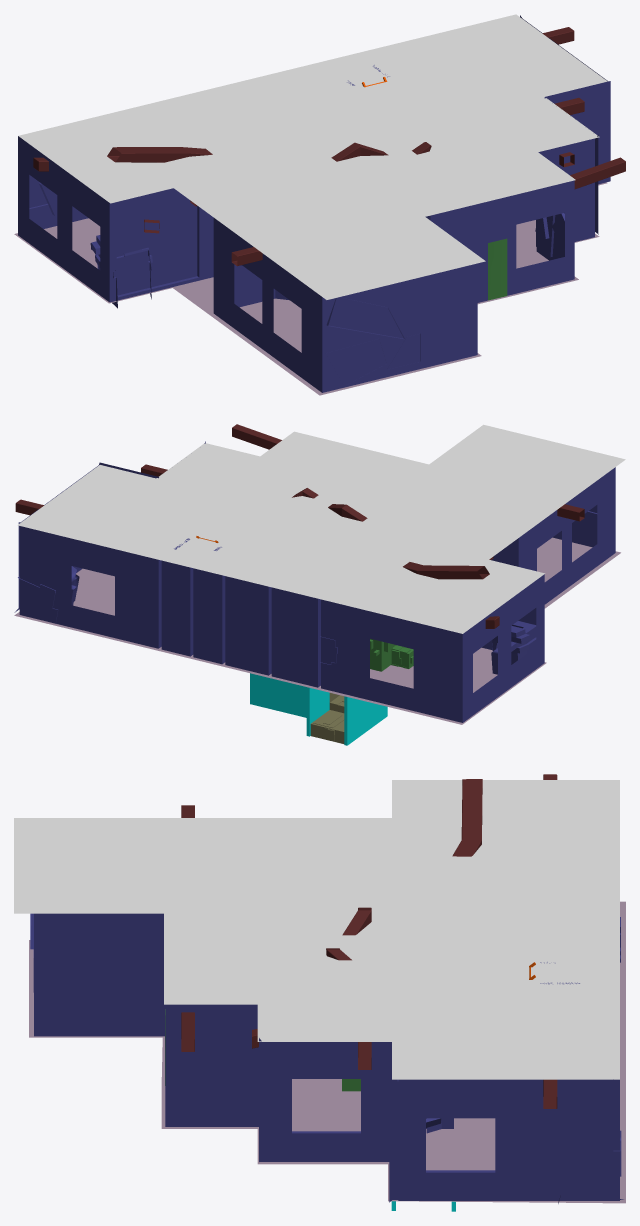
File: NIVEL_2_Mejor (1).fbx
3 views of the same model, one above another, from view 1: azimuth 30°, elevation 25°; view 2: azimuth 150°, elevation 25°; view 3: azimuth 270°, elevation 25° (orthographic). The views are drawn at different scales.
Visible parts, largest first — view 1: Techo1, PAREDES, PISO, polySurface136, polySurface134, polySurface135, Protuberancia_10; view 2: Techo1, PAREDES, PISO, ESCALERA, polySurface136, Protu_Pared_1, polySurface134, polySurface135, Protuberancia_2, Protuberancia_1; view 3: Techo1, PAREDES, PISO, polySurface136, polySurface135, polySurface134.
Boxes of the visible parts, box(x1,y1,x2,y2) form: Techo1: box(18, 14, 607, 299); PAREDES: box(18, 15, 610, 392); PISO: box(14, 182, 607, 395); polySurface136: box(33, 27, 574, 233); polySurface134: box(231, 157, 625, 266); polySurface135: box(190, 97, 584, 206); Protuberancia_10: box(488, 238, 507, 300); Techo1: box(17, 424, 625, 633); PAREDES: box(14, 441, 615, 722); PISO: box(14, 537, 620, 724); ESCALERA: box(250, 673, 387, 745); polySurface136: box(15, 499, 499, 628); Protu_Pared_1: box(491, 621, 536, 674); polySurface134: box(232, 424, 584, 521); polySurface135: box(141, 464, 493, 559); Protuberancia_2: box(370, 638, 396, 671); Protuberancia_1: box(391, 645, 413, 668); Techo1: box(14, 780, 619, 1079); PAREDES: box(30, 913, 623, 1202); PISO: box(29, 901, 625, 1203); polySurface136: box(452, 774, 557, 1108); polySurface135: box(252, 907, 371, 1069); polySurface134: box(181, 805, 194, 1051).
Bounding box in the file's own units: 16.53 × 6.53 × 13.26.
